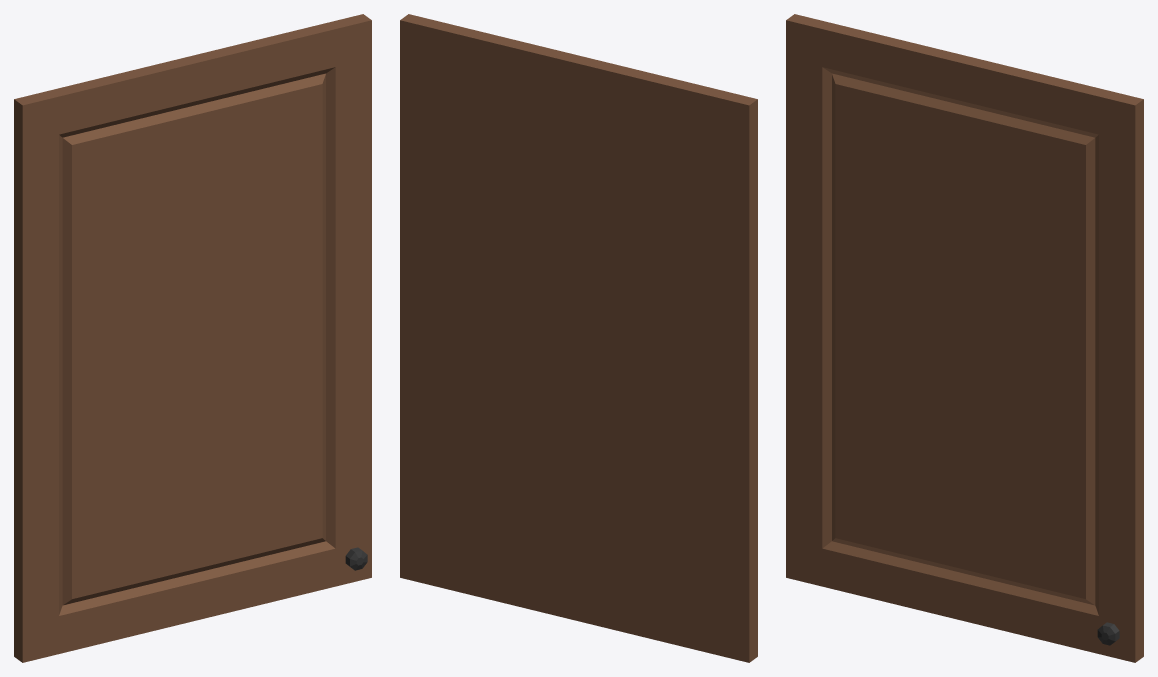
The model's file is Door3_C2_12.fbx.
The picture shows the model from 3 angles, left to right: view 1: azimuth 30°, elevation 25°; view 2: azimuth 150°, elevation 25°; view 3: azimuth 330°, elevation 25°; orthographic projection.
Parts seen in each view (by area): view 1: Door3_C2_12; view 2: Door3_C2_12; view 3: Door3_C2_12.
Boxes of the visible parts, x1,y1,x2,y2 form: Door3_C2_12: (14, 14, 371, 662); Door3_C2_12: (400, 14, 757, 662); Door3_C2_12: (786, 14, 1143, 662).
Size of the model in its own units: 59 by 90 by 5.19.
